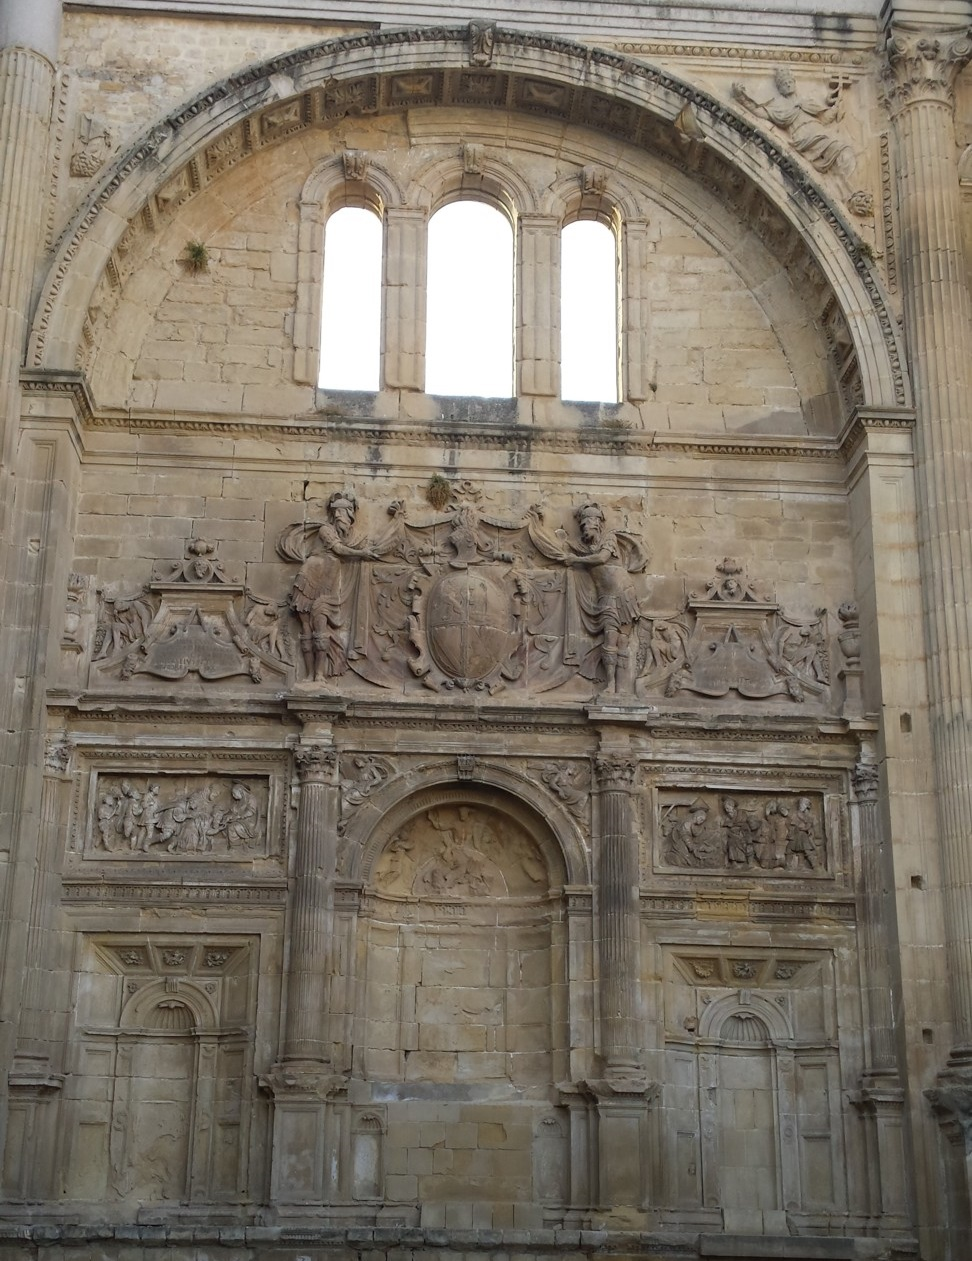arco-medio-punto: (29, 38, 903, 507)
serliana: (38, 730, 883, 1245)
